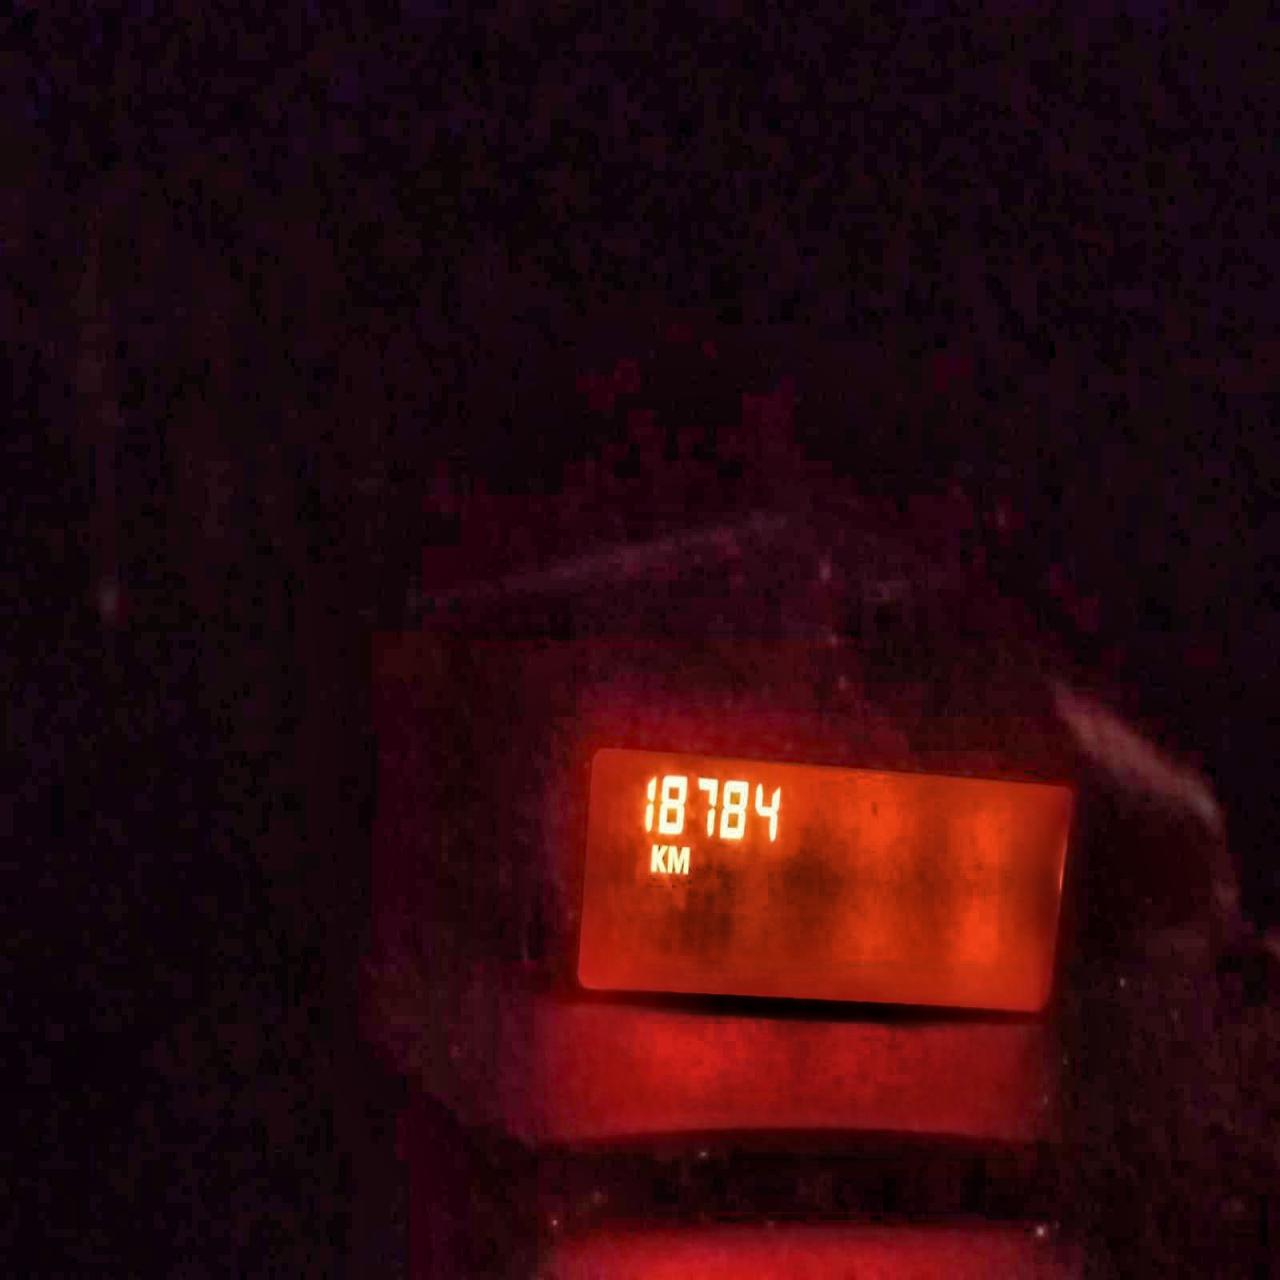1: (640, 765, 655, 836)
4: (754, 776, 784, 844)
7: (694, 771, 715, 840)
8: (658, 767, 688, 836), (720, 774, 750, 843)
X: (666, 843, 692, 876), (648, 840, 666, 874)
odometer: (558, 724, 1080, 1013)
